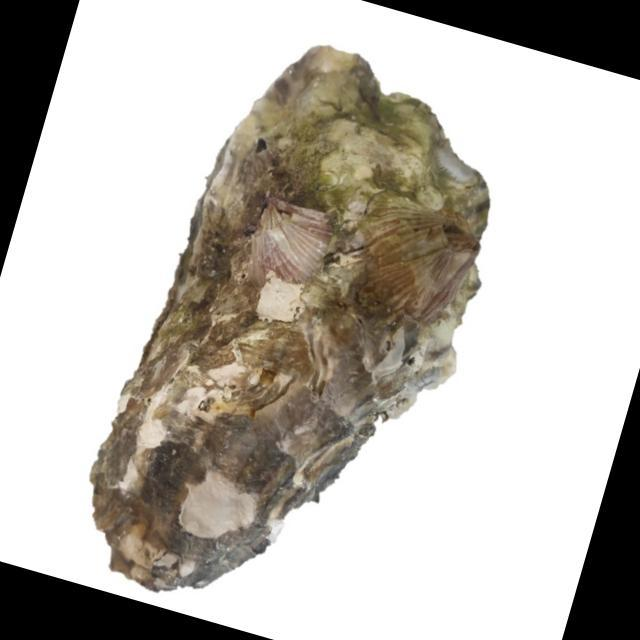Oyster- Indeterminate: (90, 46, 490, 593)
